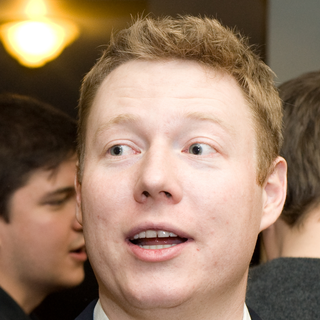eye: (178, 138, 223, 162), (100, 139, 144, 163)
